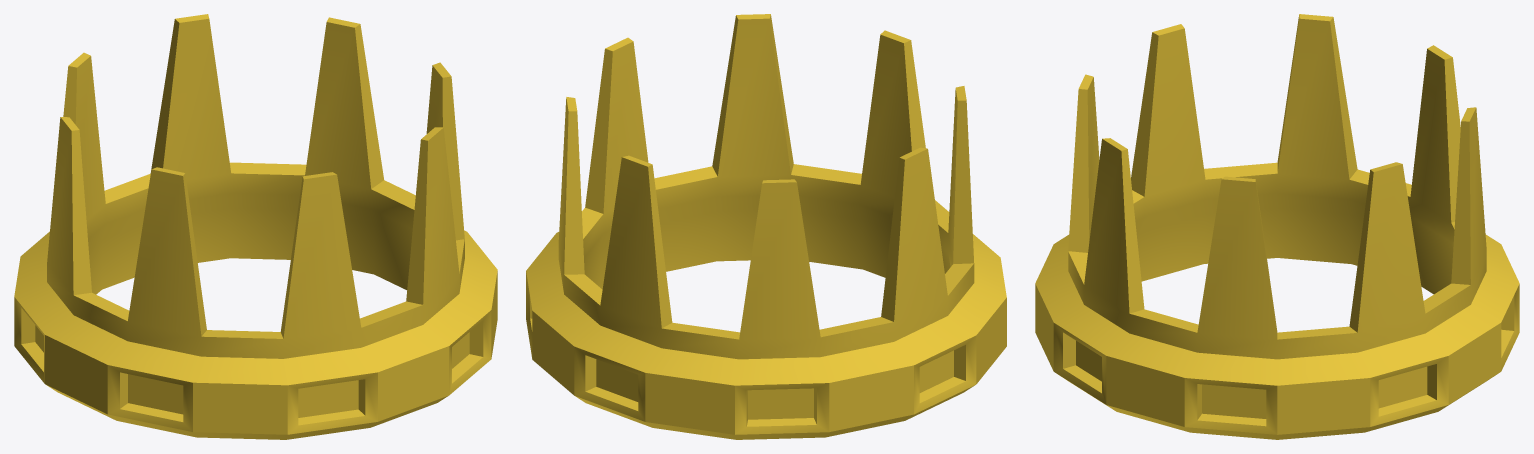
File: crown.fbx
The picture shows the model from 3 angles, left to right: view 1: azimuth 30°, elevation 25°; view 2: azimuth 150°, elevation 25°; view 3: azimuth 270°, elevation 25°; orthographic projection.
Visible parts, largest first — view 1: Cylinder; view 2: Cylinder; view 3: Cylinder.
Boxes of the visible parts, x1=… form: Cylinder: x1=14, y1=14, x2=497, y2=439; Cylinder: x1=526, y1=14, x2=1006, y2=439; Cylinder: x1=1035, y1=14, x2=1519, y2=439.
Bounding box in the file's own units: 103 × 57.78 × 103.
